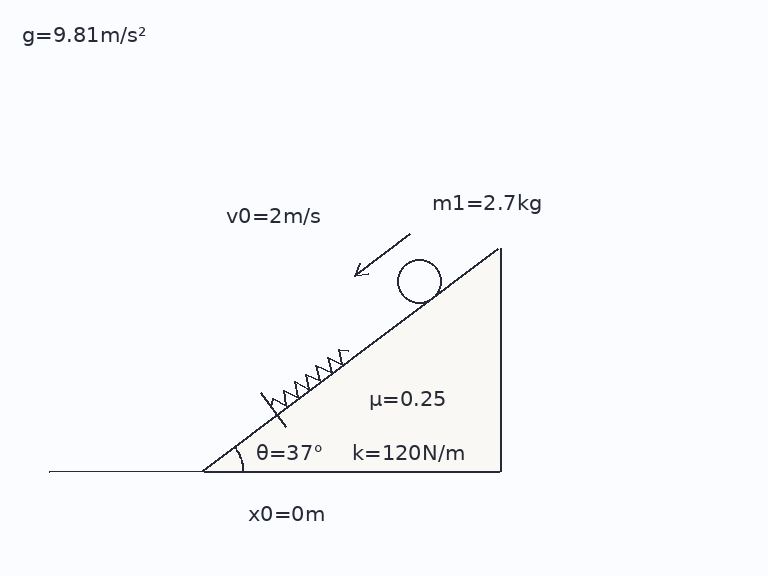ball: (395, 257, 443, 305)
ramp: (201, 246, 501, 473)
spring: (270, 346, 351, 410)
